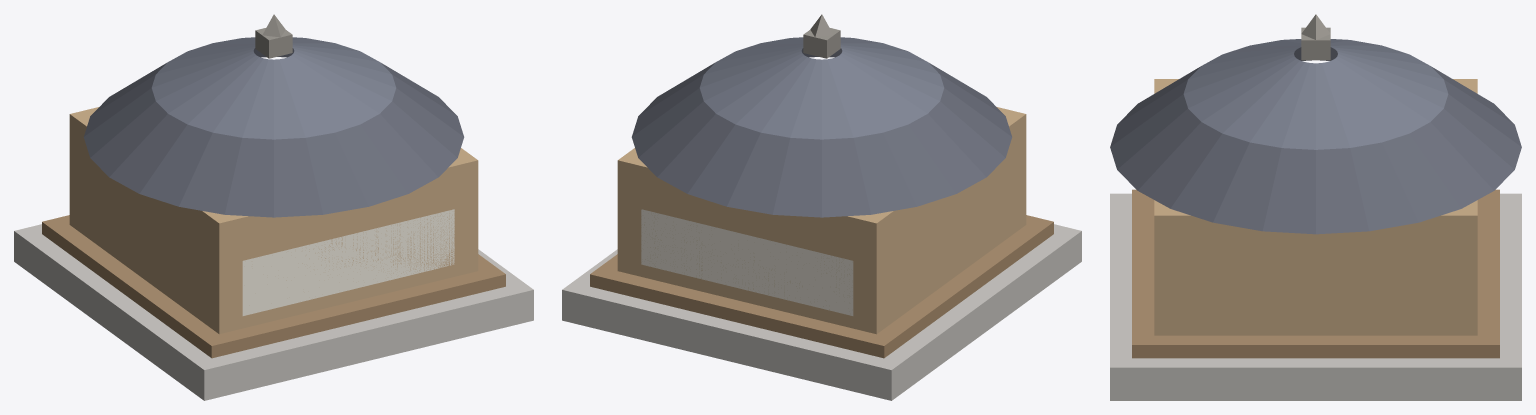
The model's file is station_茶寮.glb.
The picture shows the model from 3 angles, left to right: view 1: azimuth 30°, elevation 25°; view 2: azimuth 150°, elevation 25°; view 3: azimuth 270°, elevation 25°; orthographic projection. The views are drawn at different scales.
Parts seen in each view (by area): view 1: 茶寮; view 2: 茶寮; view 3: 茶寮.
Part boxes in pixels (x1,y1,x2,y2): 茶寮: (14,14,533,400); 茶寮: (562,14,1081,400); 茶寮: (1110,14,1521,400).
Size of the model in its own units: 1.12 by 0.9 by 1.12.
